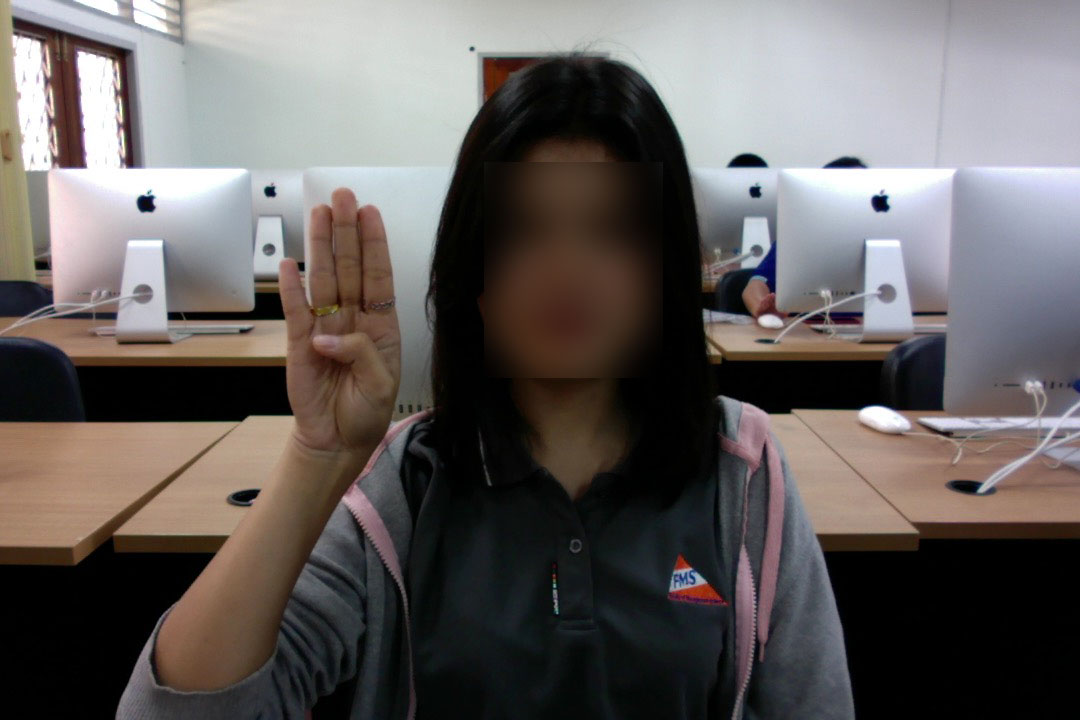bor: (272, 183, 408, 451)
